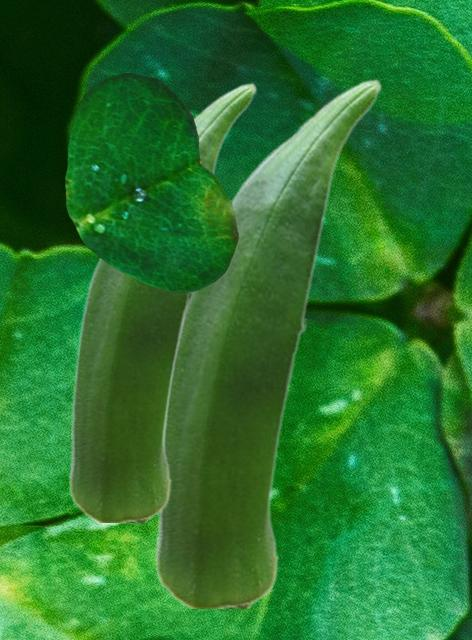okra: (153, 78, 381, 607), (67, 82, 256, 521)
